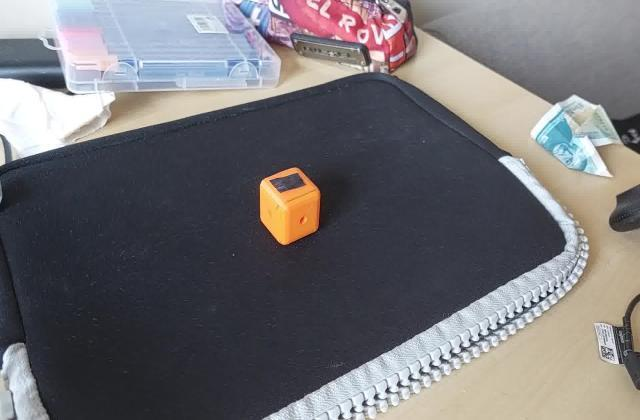black: (266, 172, 306, 194)
cube: (255, 166, 322, 248)
